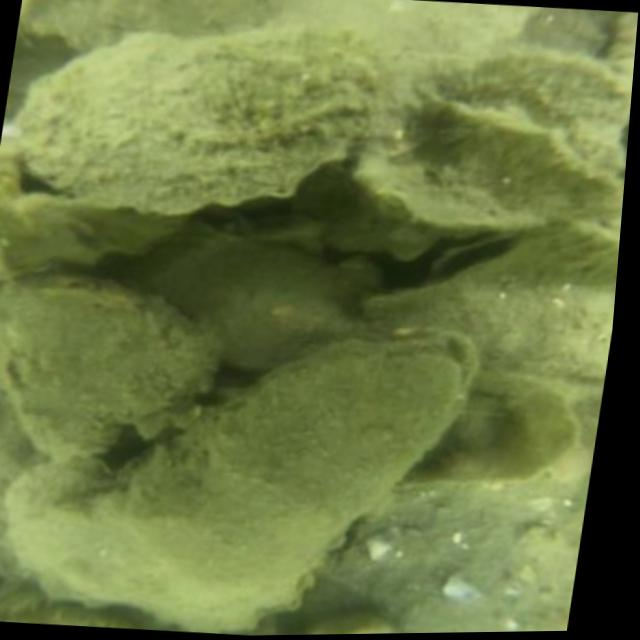Oyster-Closed: (75, 334, 487, 624)
Oyster-Indeterminate: (1, 25, 476, 221), (4, 456, 265, 631), (372, 226, 604, 401), (0, 276, 215, 454), (138, 232, 357, 369), (467, 44, 631, 179)
